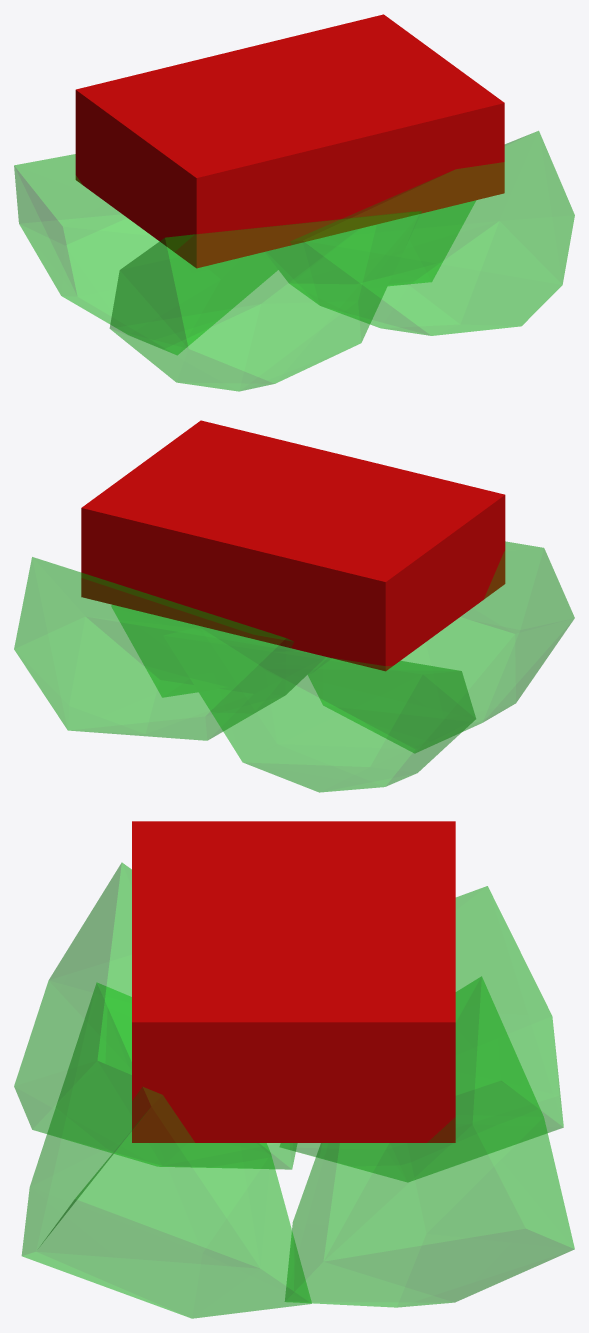
The model's file is solo_all_visual.dae.
The picture shows the model from 3 angles, top to bottom: view 1: azimuth 30°, elevation 25°; view 2: azimuth 150°, elevation 25°; view 3: azimuth 270°, elevation 25°; orthographic projection. The views are drawn at different scales.
Parts seen in each view (by area): view 1: Cube, HRleg_rom_reduced, FRleg_rom_reduced, HLleg_rom_reduced, FLleg_rom_reduced; view 2: Cube, FLleg_rom_reduced, HLleg_rom_reduced, HRleg_rom_reduced, FRleg_rom_reduced; view 3: Cube, FRleg_rom_reduced, FLleg_rom_reduced, HRleg_rom_reduced, HLleg_rom_reduced.
Part boxes in pixels (left/top/right/bottom): Cube: left=75, top=14, right=504, bottom=268; HRleg_rom_reduced: left=109, top=211, right=421, bottom=391; FRleg_rom_reduced: left=265, top=131, right=574, bottom=335; HLleg_rom_reduced: left=14, top=154, right=277, bottom=354; FLleg_rom_reduced: left=388, top=201, right=475, bottom=285; Cube: left=81, top=420, right=505, bottom=671; FLleg_rom_reduced: left=14, top=557, right=325, bottom=740; HLleg_rom_reduced: left=163, top=627, right=475, bottom=792; HRleg_rom_reduced: left=308, top=541, right=574, bottom=753; FRleg_rom_reduced: left=111, top=605, right=200, bottom=697; Cube: left=132, top=821, right=455, bottom=1142; FRleg_rom_reduced: left=21, top=982, right=311, bottom=1318; FLleg_rom_reduced: left=284, top=976, right=574, bottom=1307; HRleg_rom_reduced: left=14, top=862, right=297, bottom=1169; HLleg_rom_reduced: left=280, top=886, right=563, bottom=1181.
Bounding box in the file's own units: 0.6594 × 0.5898 × 0.3637.
